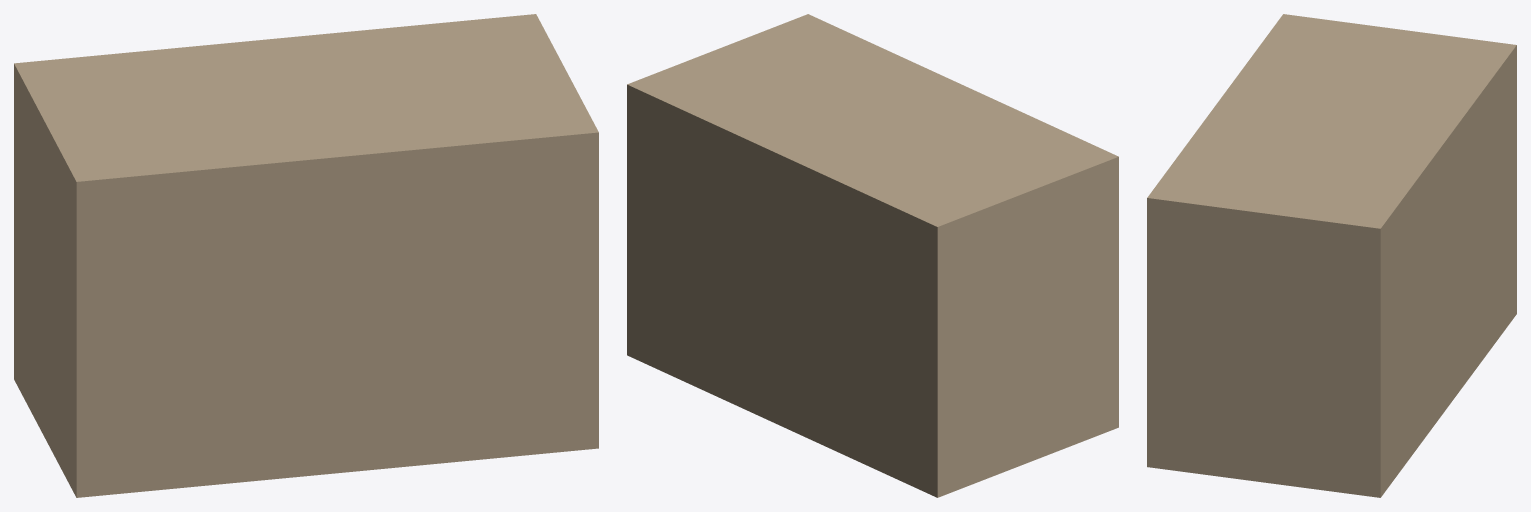
File: bld_101524506.dae
3 views of the same model, side by side, from view 1: azimuth 30°, elevation 25°; view 2: azimuth 150°, elevation 25°; view 3: azimuth 270°, elevation 25° (orthographic). The views are drawn at different scales.
Parts seen in each view (by area): view 1: bld_101524506; view 2: bld_101524506; view 3: bld_101524506.
Boxes of the visible parts, x1,y1,x2,y2 form: bld_101524506: (14, 14, 598, 497); bld_101524506: (627, 14, 1118, 497); bld_101524506: (1147, 14, 1516, 497).
Size of the model in its own units: 13.69 by 9.96 by 8.
